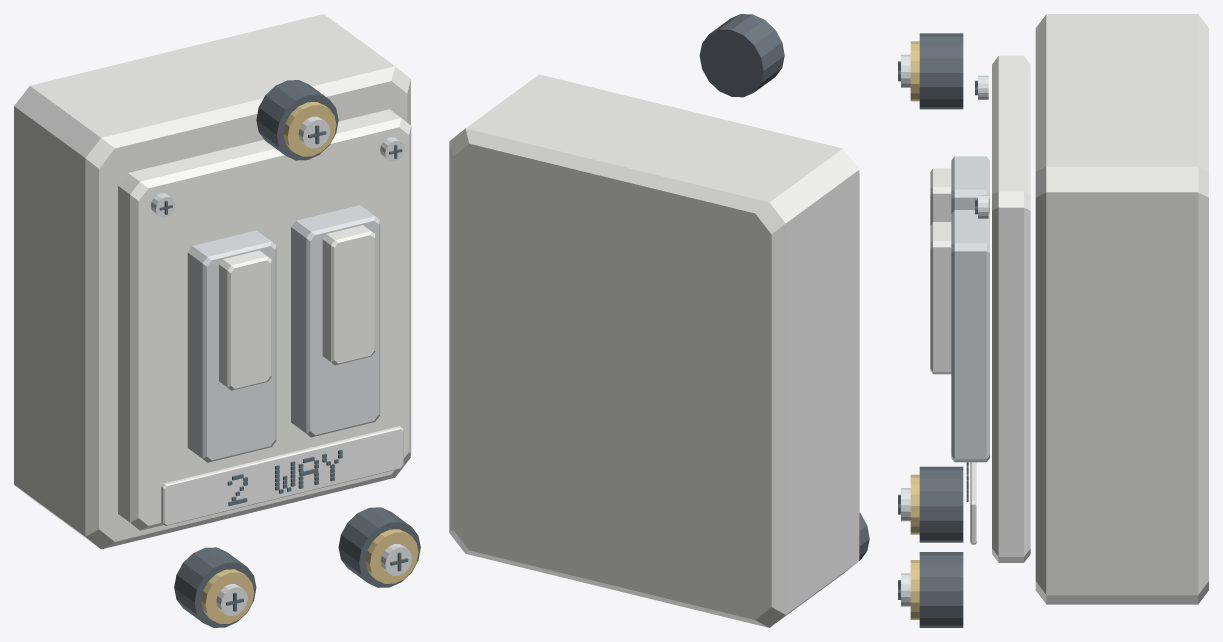
File: twoWaySwitch.glb
3 renders of one model, left to right at view 1: azimuth 30°, elevation 25°; view 2: azimuth 150°, elevation 25°; view 3: azimuth 270°, elevation 25°, orthographic. The views are drawn at different scales.
Visible parts, largest first — view 1: twoWaySwitch-preview; view 2: twoWaySwitch-preview; view 3: twoWaySwitch-preview.
Part boxes in pixels (bbox=[...]): twoWaySwitch-preview: bbox=[14, 14, 420, 627]; twoWaySwitch-preview: bbox=[449, 14, 869, 627]; twoWaySwitch-preview: bbox=[898, 14, 1208, 627].
Size of the model in its own units: 1.65 by 2.48 by 1.28.
